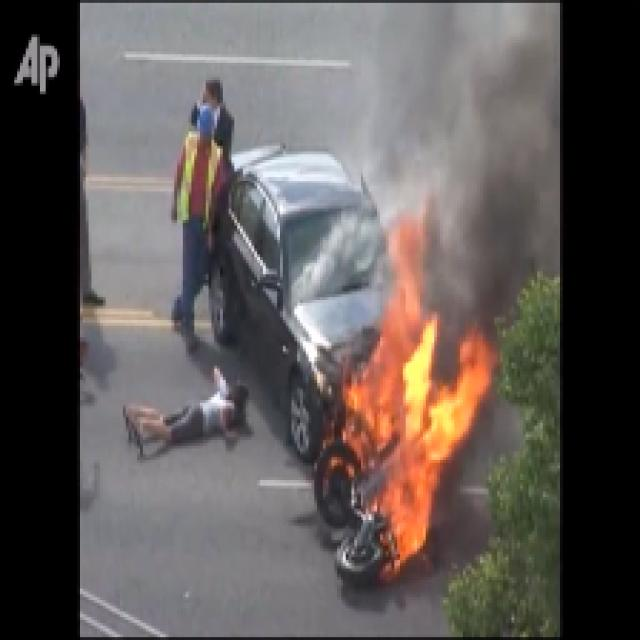fire: (357, 315, 444, 556)
smoke: (441, 3, 557, 277)
